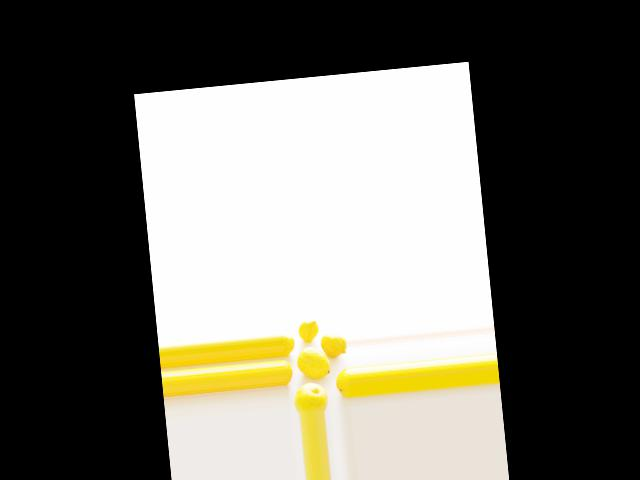lemon: (331, 363, 352, 395)
